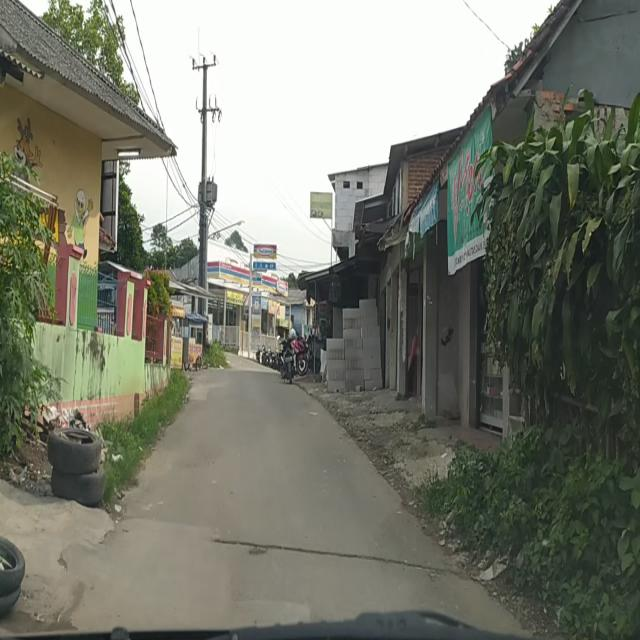Sewer Cover: (208, 533, 446, 568)
